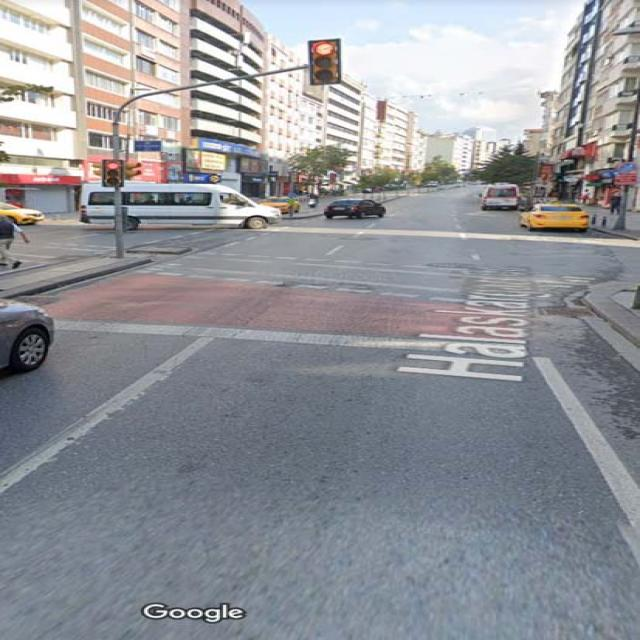kirmizi: (308, 41, 341, 83), (104, 160, 121, 184)
